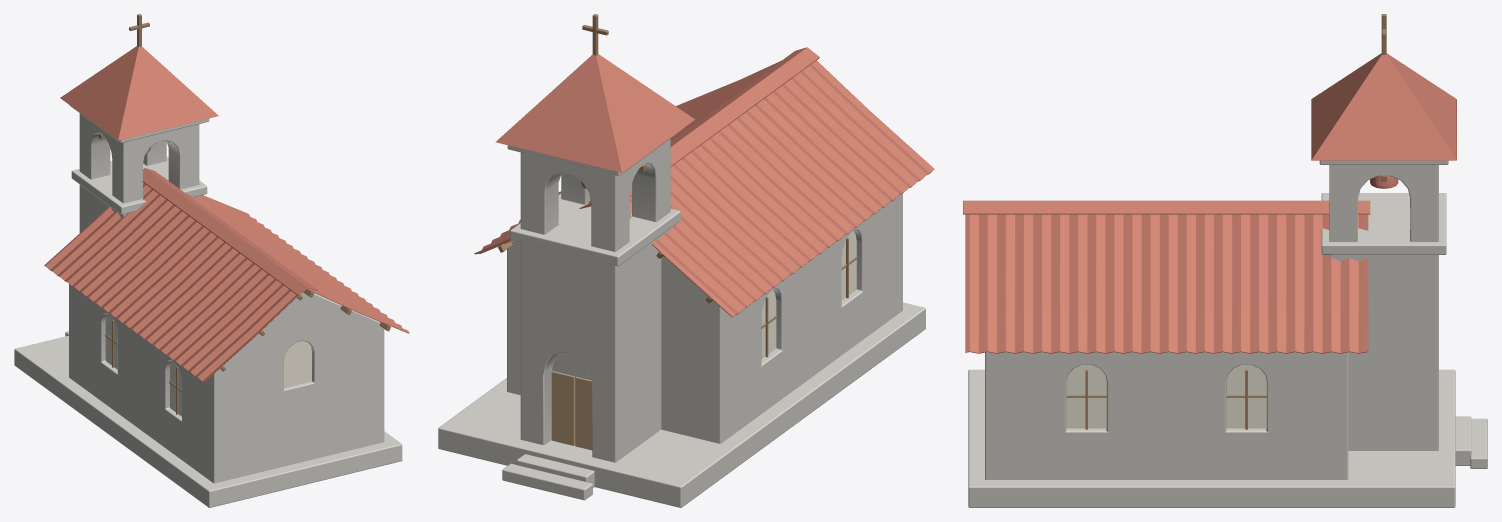
File: house_capilla_1000.glb
3 views of the same model, side by side, from view 1: azimuth 30°, elevation 25°; view 2: azimuth 150°, elevation 25°; view 3: azimuth 270°, elevation 25° (orthographic). The views are drawn at different scales.
Visible parts, largest first — view 1: capilla_1000_paint_white, capilla_1000_tin, capilla_1000_capiz, capilla_1000_timber; view 2: capilla_1000_paint_white, capilla_1000_tin, capilla_1000_plank, capilla_1000_capiz, capilla_1000_timber; view 3: capilla_1000_paint_white, capilla_1000_tin, capilla_1000_capiz, capilla_1000_timber.
Part boxes in pixels (bbox=[...]): capilla_1000_paint_white: bbox=[14, 105, 402, 507]; capilla_1000_tin: bbox=[44, 46, 409, 382]; capilla_1000_capiz: bbox=[105, 314, 311, 416]; capilla_1000_timber: bbox=[99, 14, 390, 414]; capilla_1000_paint_white: bbox=[438, 129, 925, 507]; capilla_1000_tin: bbox=[474, 47, 934, 317]; capilla_1000_plank: bbox=[551, 371, 592, 450]; capilla_1000_capiz: bbox=[761, 231, 856, 359]; capilla_1000_timber: bbox=[498, 14, 857, 357]; capilla_1000_paint_white: bbox=[968, 160, 1487, 507]; capilla_1000_tin: bbox=[963, 53, 1456, 353]; capilla_1000_capiz: bbox=[1066, 365, 1266, 428]; capilla_1000_timber: bbox=[1066, 14, 1386, 429].
Bounding box in the file's own units: 6.23 × 10.08 × 11.03.
